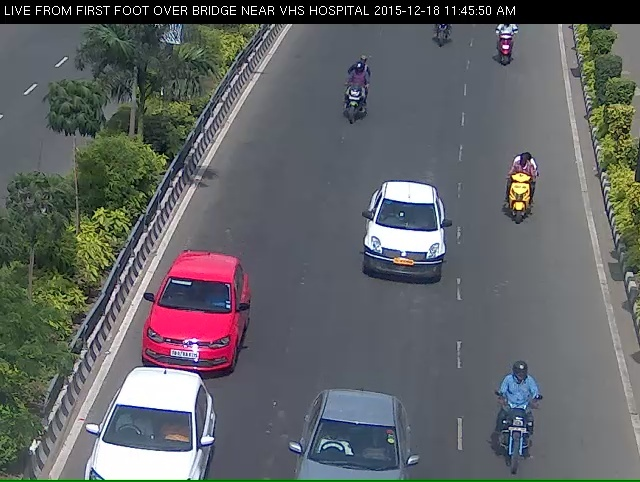Car: (346, 176, 463, 311), (131, 278, 245, 407), (72, 404, 209, 481), (282, 415, 410, 479)
Person: (494, 383, 551, 481), (335, 57, 369, 144), (508, 158, 532, 238), (494, 25, 518, 80), (426, 17, 458, 53)
